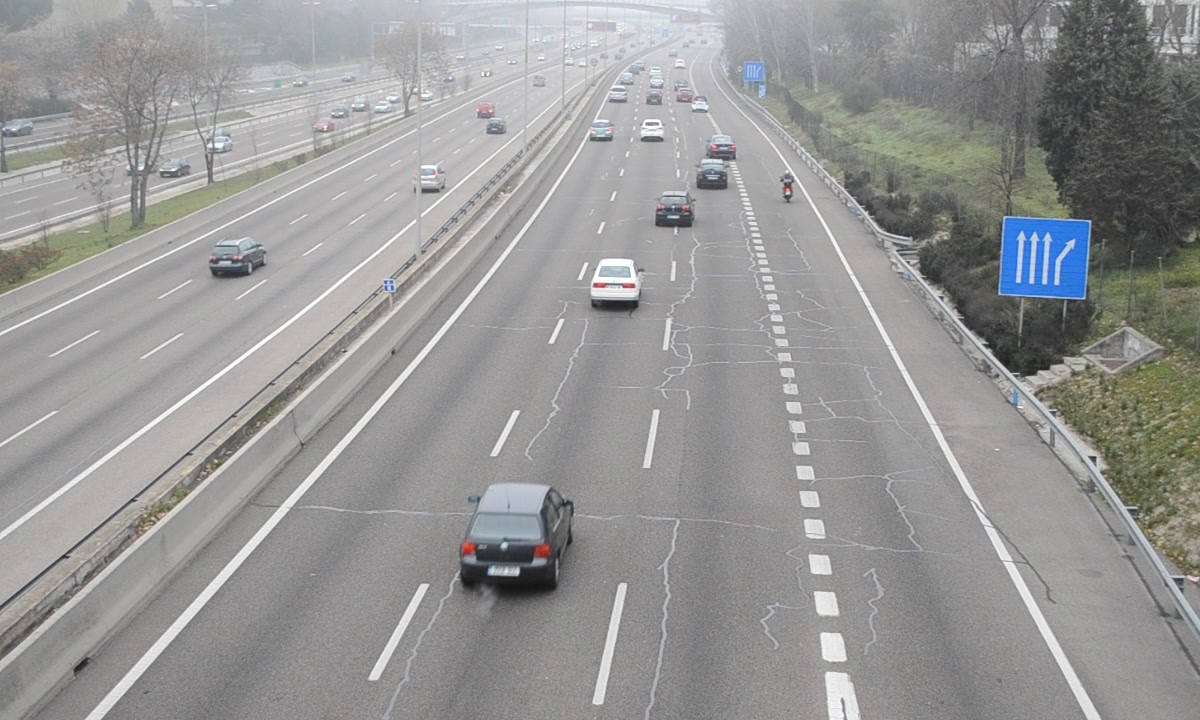car: (463, 482, 575, 584), (591, 258, 644, 304), (656, 191, 695, 228), (697, 159, 729, 190), (707, 134, 739, 159), (639, 118, 666, 141), (588, 119, 614, 141)
motorcycle: (780, 170, 797, 204)
